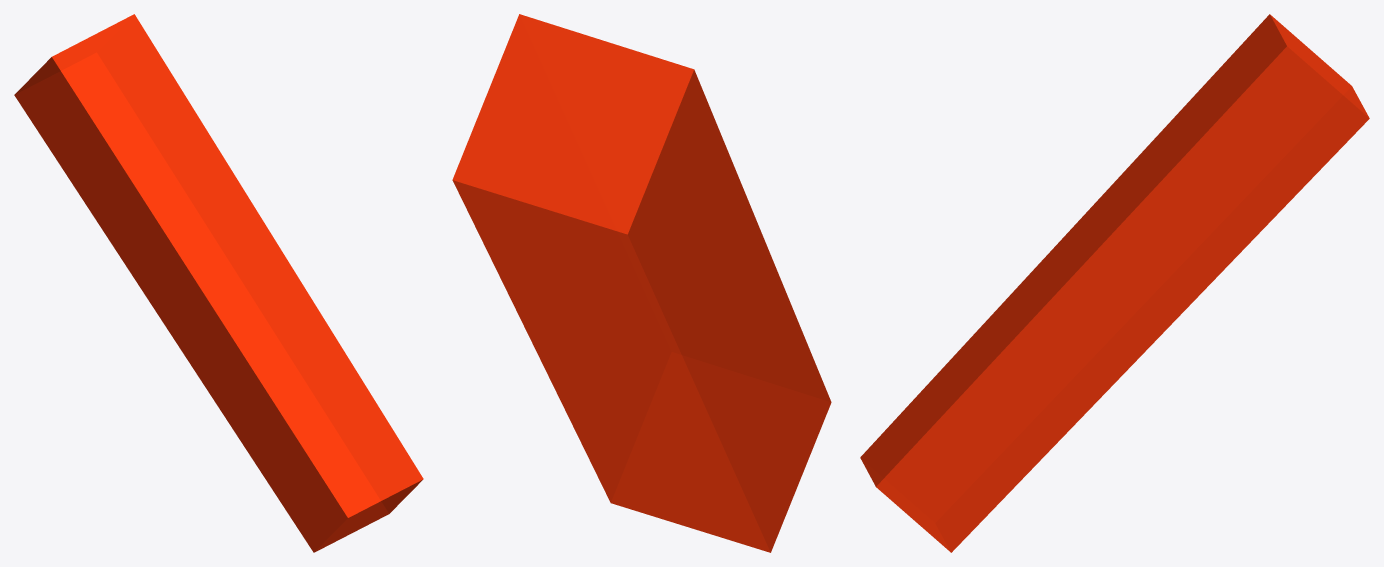
Rendered from Event_420094457_EBrechit_0.fbx.
3 renders of one model, left to right at view 1: azimuth 30°, elevation 25°; view 2: azimuth 150°, elevation 25°; view 3: azimuth 270°, elevation 25°, orthographic. The views are drawn at different scales.
Visible parts, largest first — view 1: Model; view 2: Model; view 3: Model.
Boxes of the visible parts, x1,y1,x2,y2 form: Model: (14,14,423,552); Model: (452,14,831,552); Model: (860,14,1369,552).
Size of the model in its own units: 0.1291 by 0.2733 by 0.2703.
